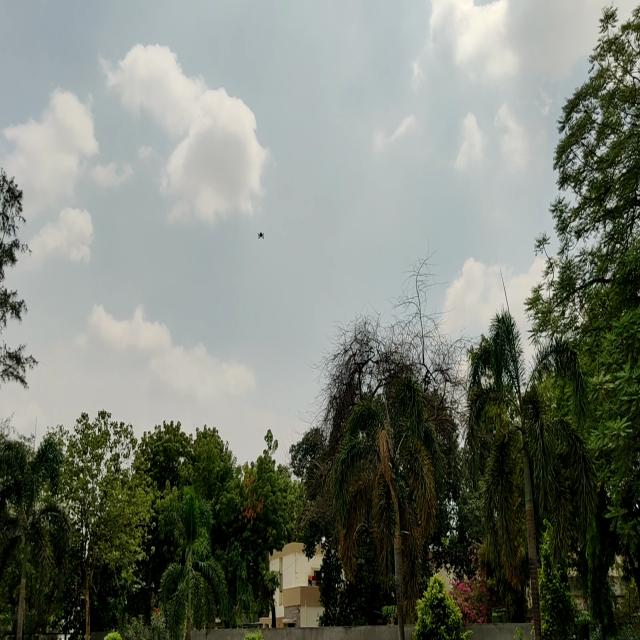drone: (256, 225, 266, 246)
